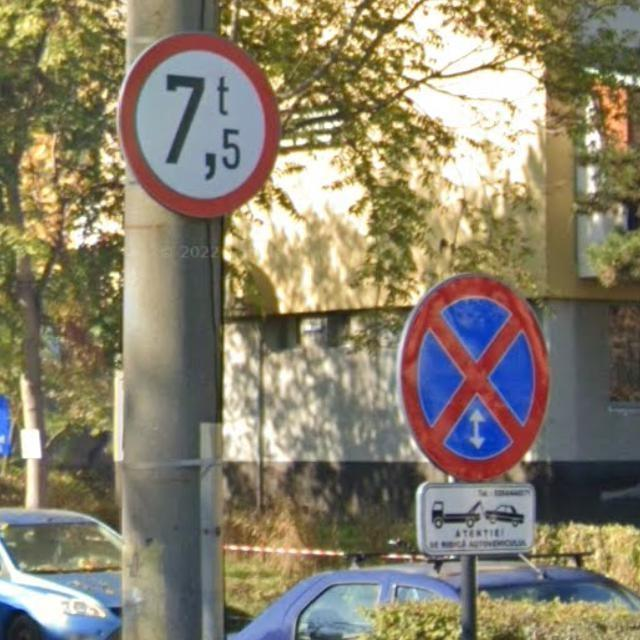forb_waiting: (400, 274, 548, 478)
